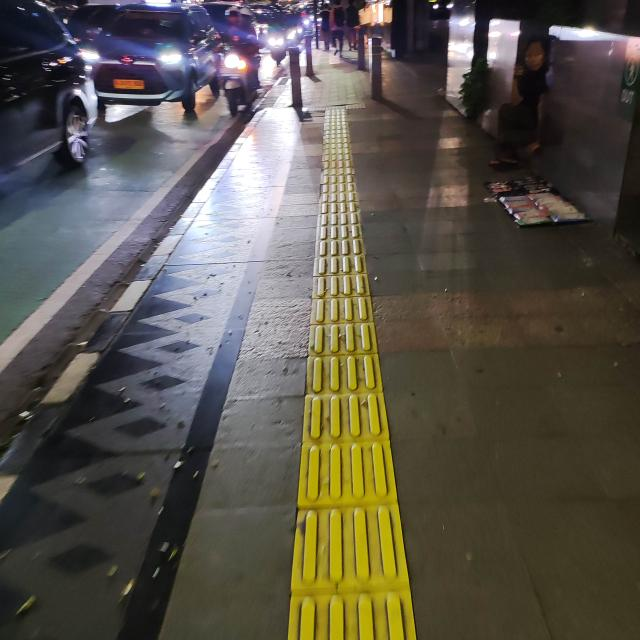lurus: (297, 125, 403, 640)
